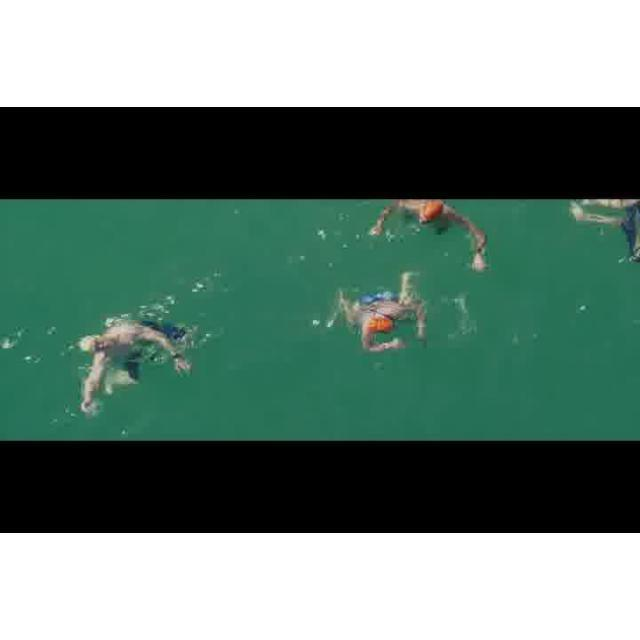human: (75, 304, 199, 413), (367, 199, 499, 273), (322, 274, 436, 357)
